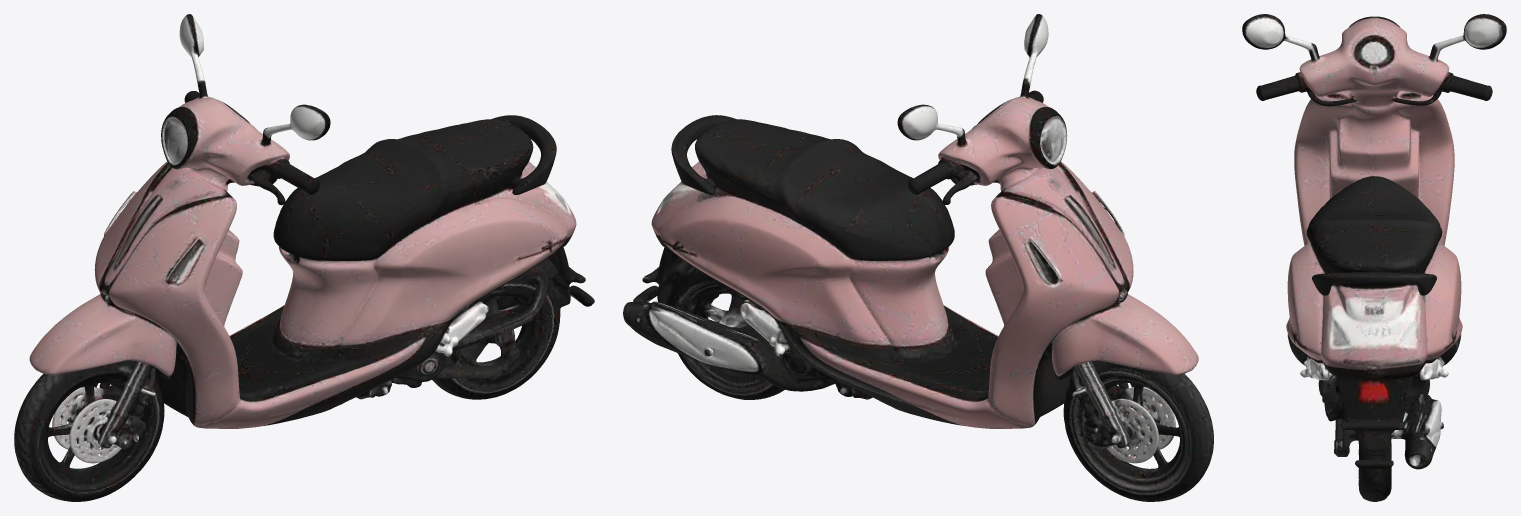
Rendered from blushpink.glb.
3 renders of one model, left to right at view 1: azimuth 30°, elevation 25°; view 2: azimuth 150°, elevation 25°; view 3: azimuth 270°, elevation 25°, orthographic. The views are drawn at different scales.
Size of the model in its own units: 1.9 by 1.27 by 0.8103.
1 material, 1 textured.
